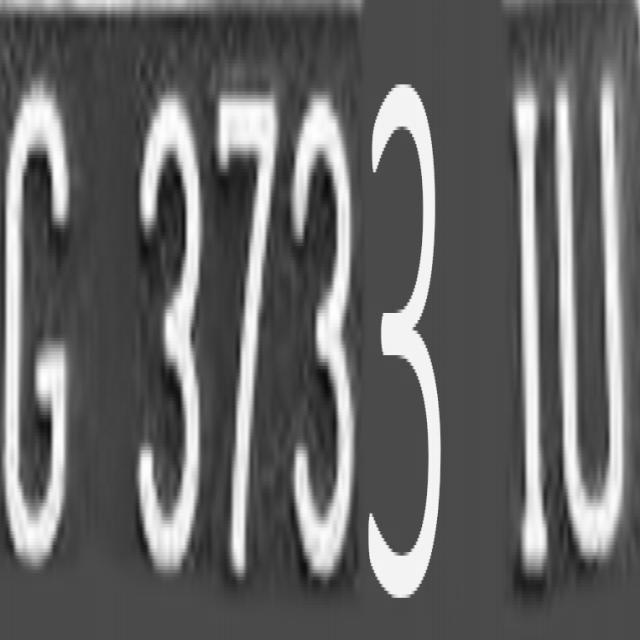3: (363, 75, 453, 608), (278, 92, 367, 598), (130, 80, 208, 592)
7: (220, 88, 268, 594)
G: (1, 68, 82, 586)
I: (500, 75, 554, 578)
U: (559, 84, 640, 578)
